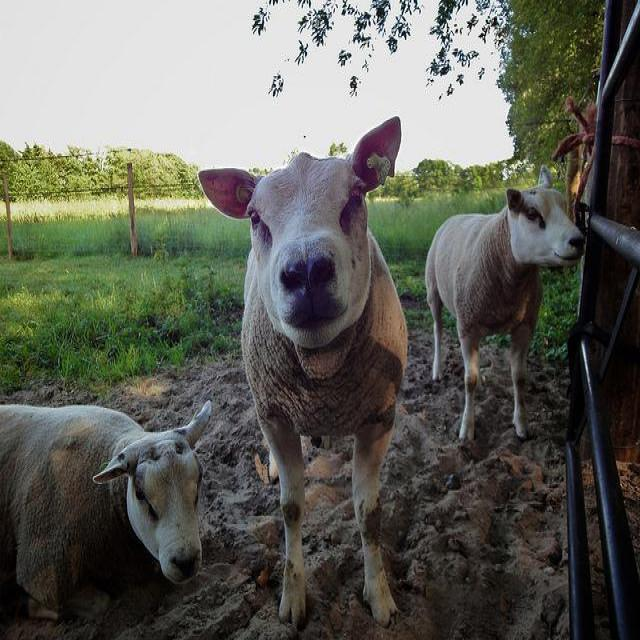Sheep: (196, 119, 411, 628), (3, 396, 215, 624), (422, 164, 590, 451)
